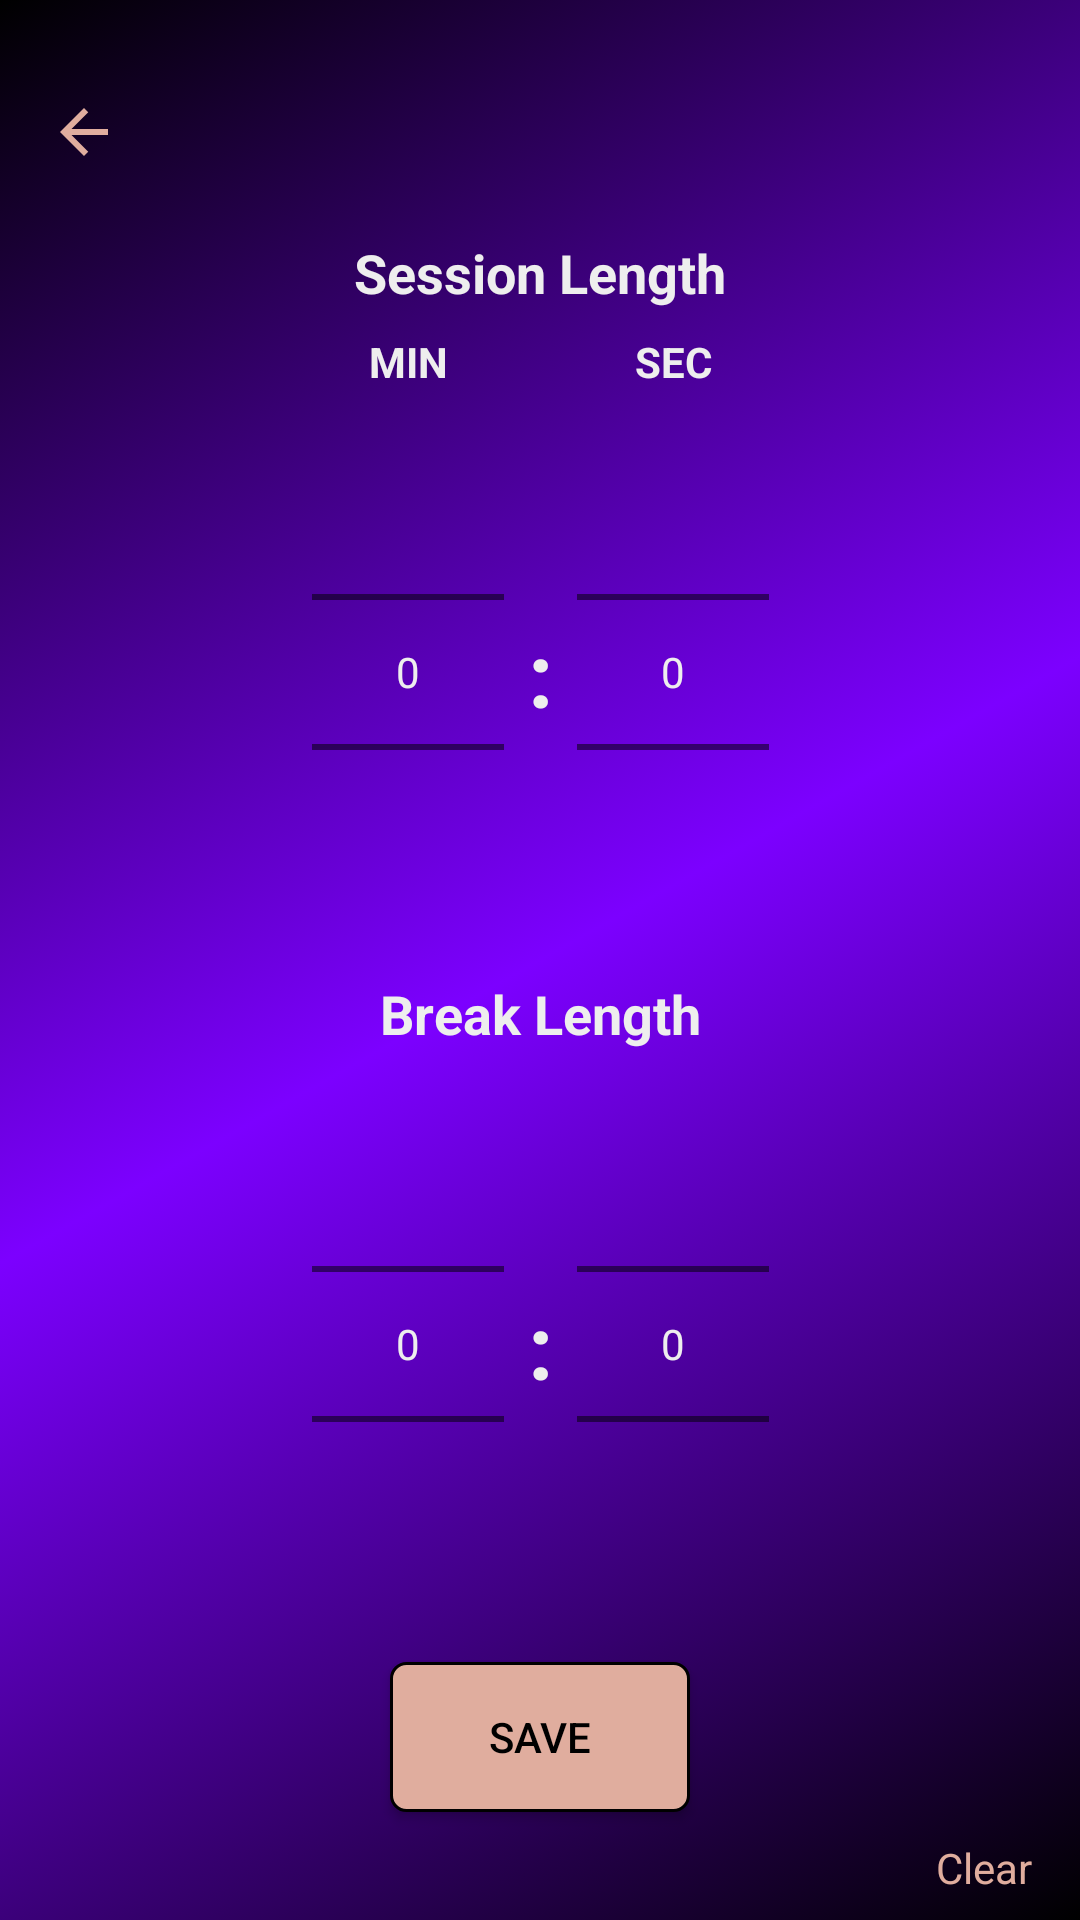

Locate icon controls on the screen. Image size 1080×1920, boxes as (x1, y1, x2, y2).
arrow back: (60, 108, 108, 156)
